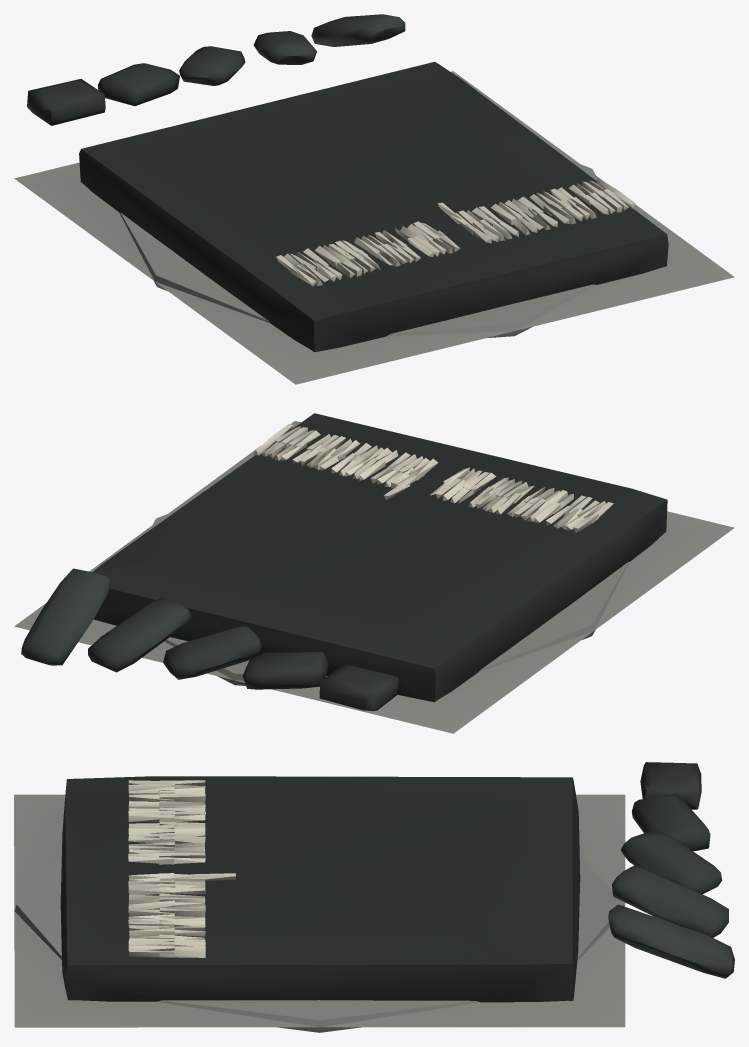
The model's file is tally_slab_b_lod1.glb.
3 renders of one model, top to bottom at view 1: azimuth 30°, elevation 25°; view 2: azimuth 150°, elevation 25°; view 3: azimuth 270°, elevation 25°, orthographic. The views are drawn at different scales.
Visible parts, largest first — view 1: Surface.001; view 2: Surface.001; view 3: Surface.001.
Part boxes in pixels (x1=…): Surface.001: x1=14, y1=14, x2=734, y2=384; Surface.001: x1=14, y1=413, x2=734, y2=733; Surface.001: x1=14, y1=762, x2=734, y2=1032.
Size of the model in its own units: 1.8 by 0.3056 by 2.36.
